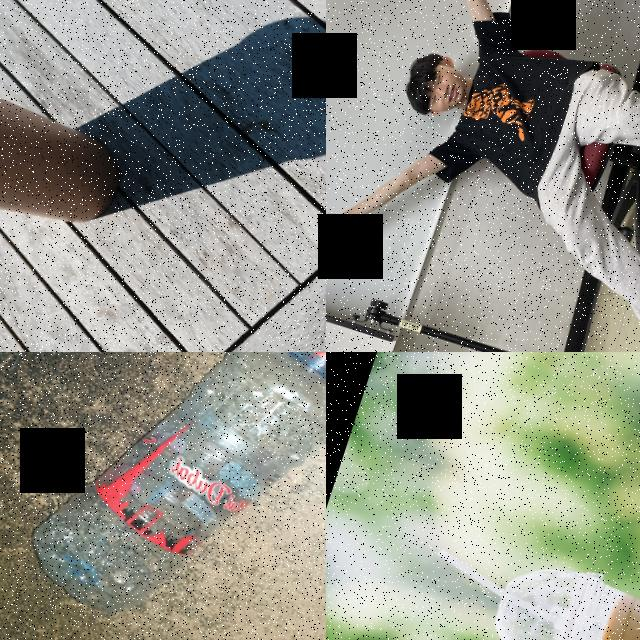bottle: (14, 352, 326, 640)
cup: (0, 37, 133, 260), (483, 548, 640, 640)
